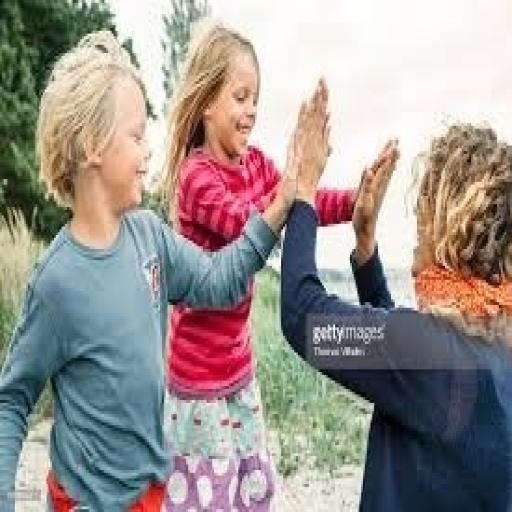clapping: (0, 28, 361, 509), (279, 118, 510, 509)
